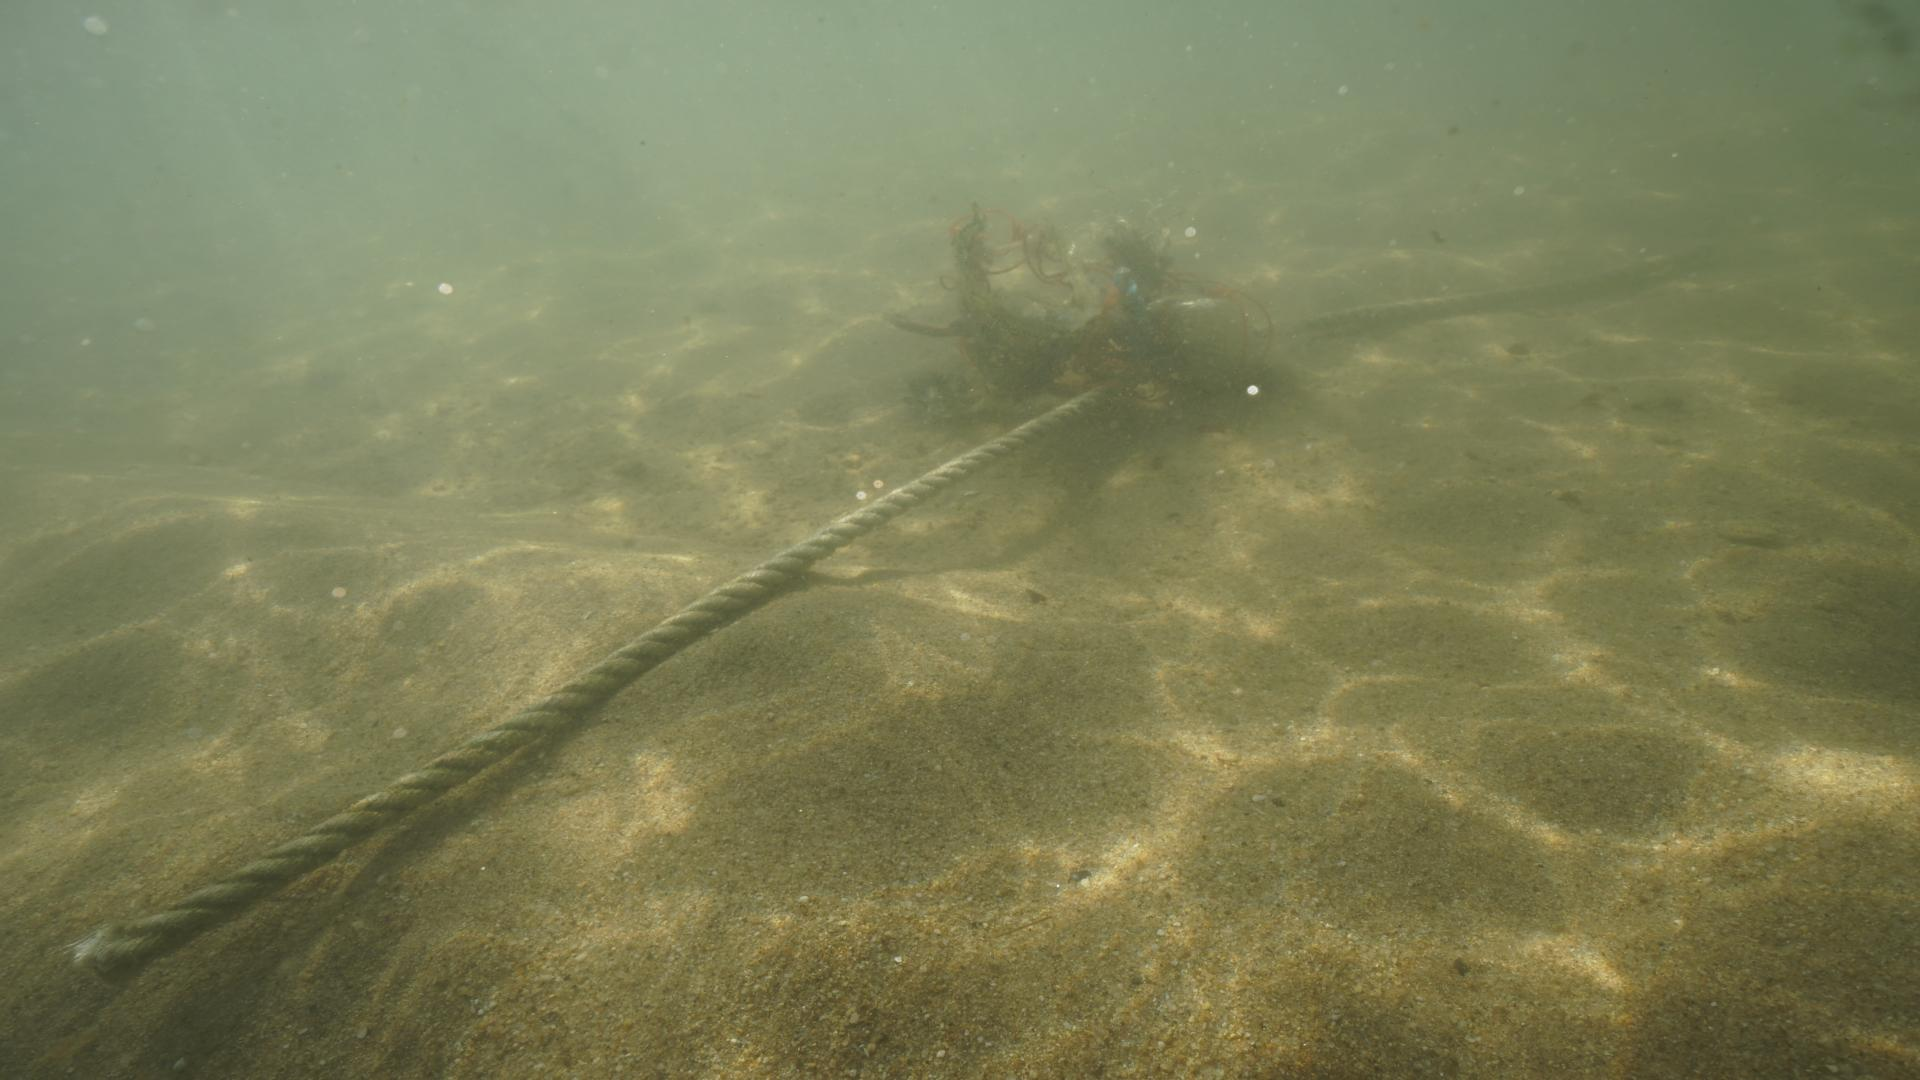rope: (0, 233, 1792, 1073)
